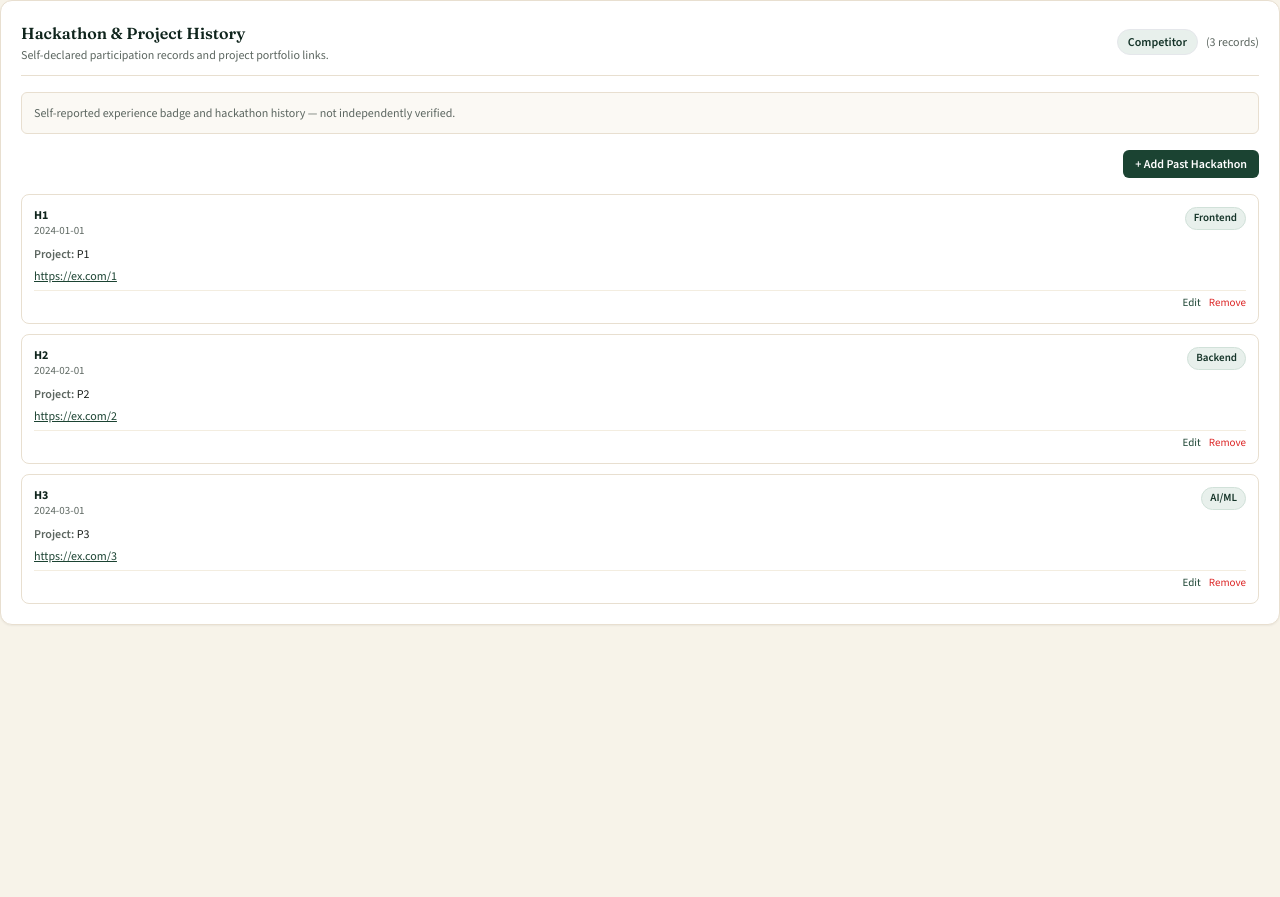
Test: HackathonHistorySection (US-007 / #280) › Experience Badge Recalculation & Lifecycle (US-007 AC 2 & AC 4) › transitions badge from Competitor (3 records) -> Veteran (4 records) -> Competitor (after deleting)
The width and height of the screenshot is (1280, 897).
Check: the text with test id "experience-badge-pill" reads "Competitor", box [1128, 34, 1187, 50]
Check: the text with test id "experience-record-count" reads "(3 records)", box [1206, 34, 1259, 50]
Add 4th record
Click the button "+ Add Past Hackathon" at (1191, 164), box [1123, 150, 1259, 178]
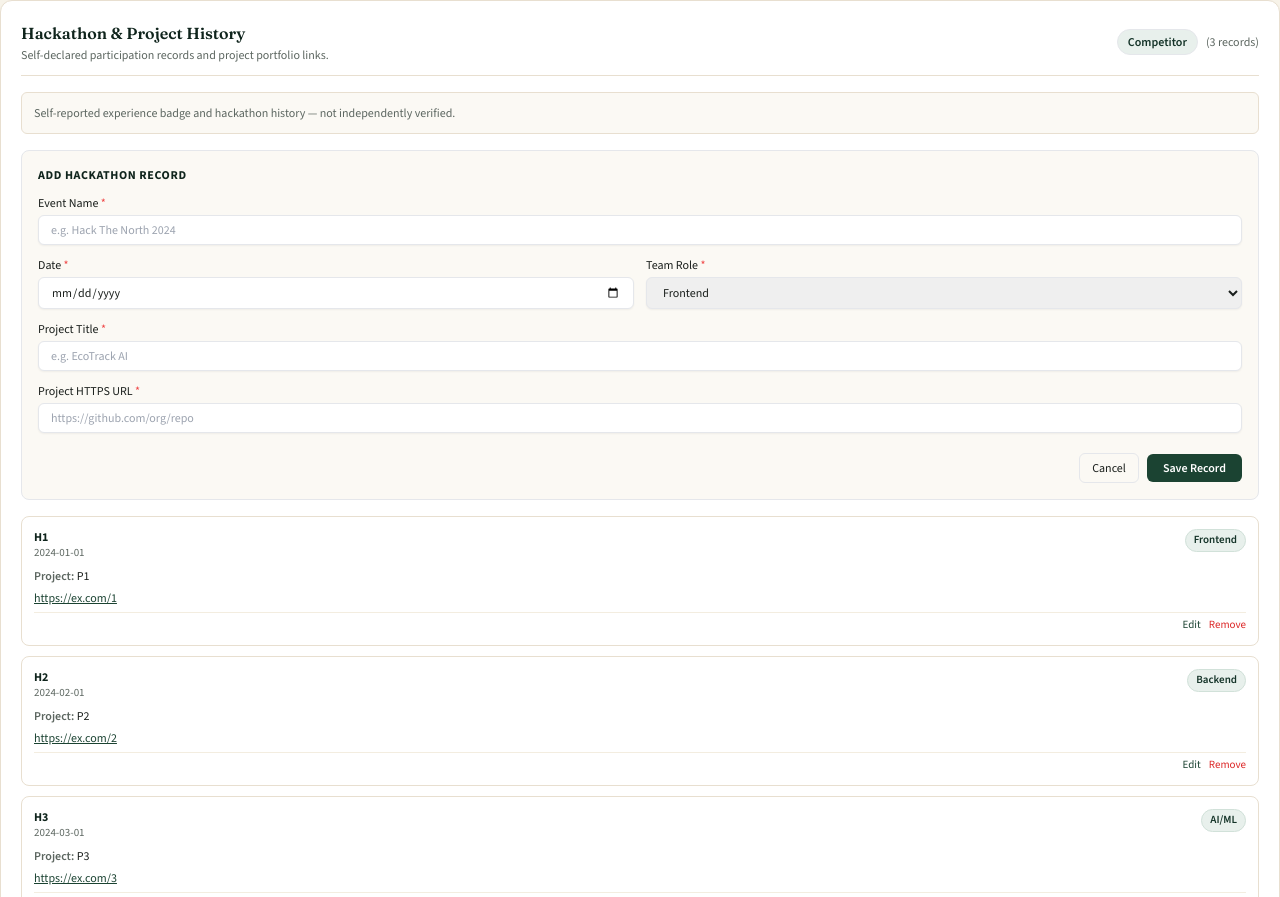
Type "H4" into the field labelled "Event Name *" at (640, 230), box [38, 215, 1242, 245]
Type "2024-04-01" into the date field labelled "Date *" at (336, 293), box [38, 277, 634, 309]
Select "Pitch" in the dropdown labelled "Team Role *" at (944, 293), box [646, 277, 1242, 309]
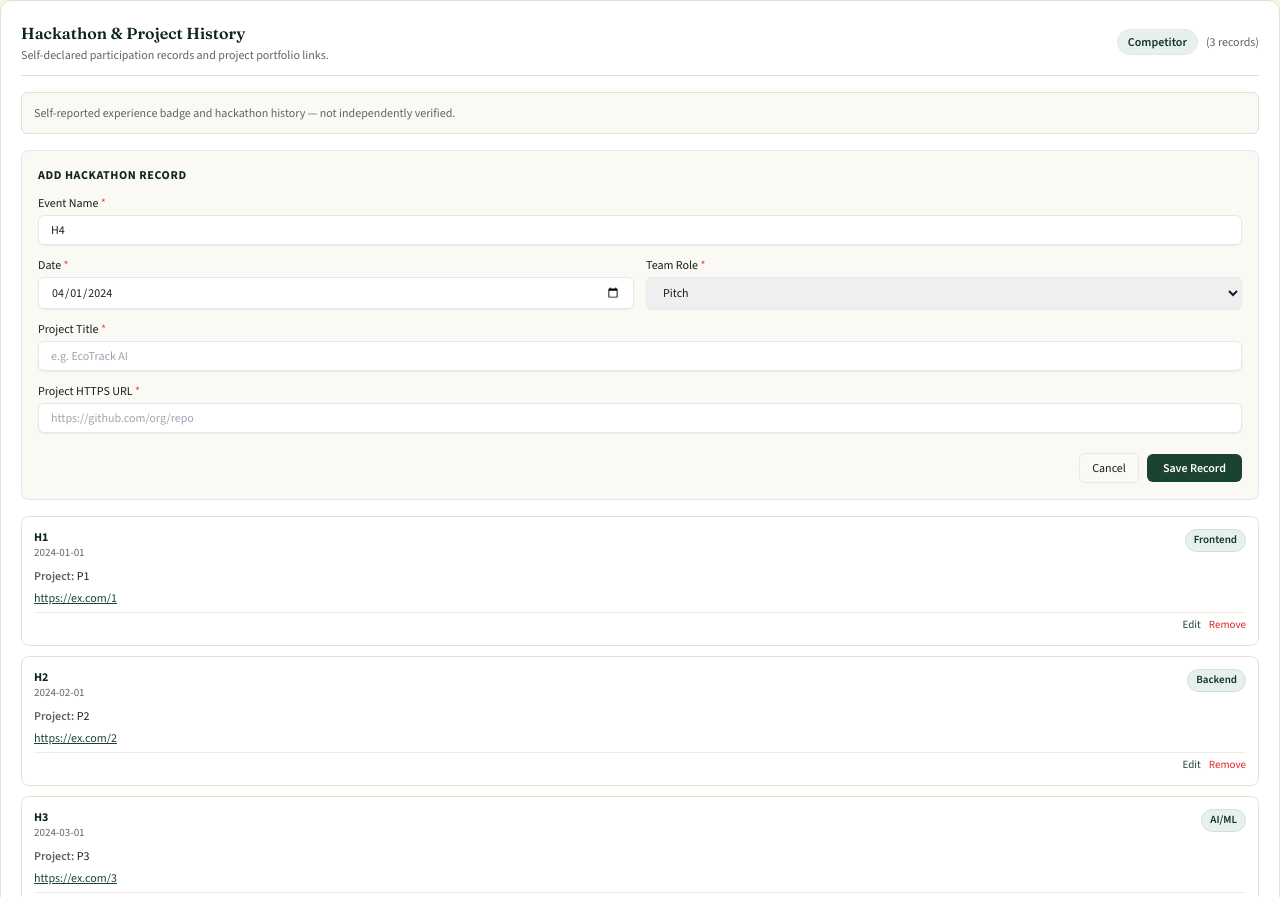
Type "P4" into the field labelled "Project Title *" at (640, 356), box [38, 341, 1242, 371]
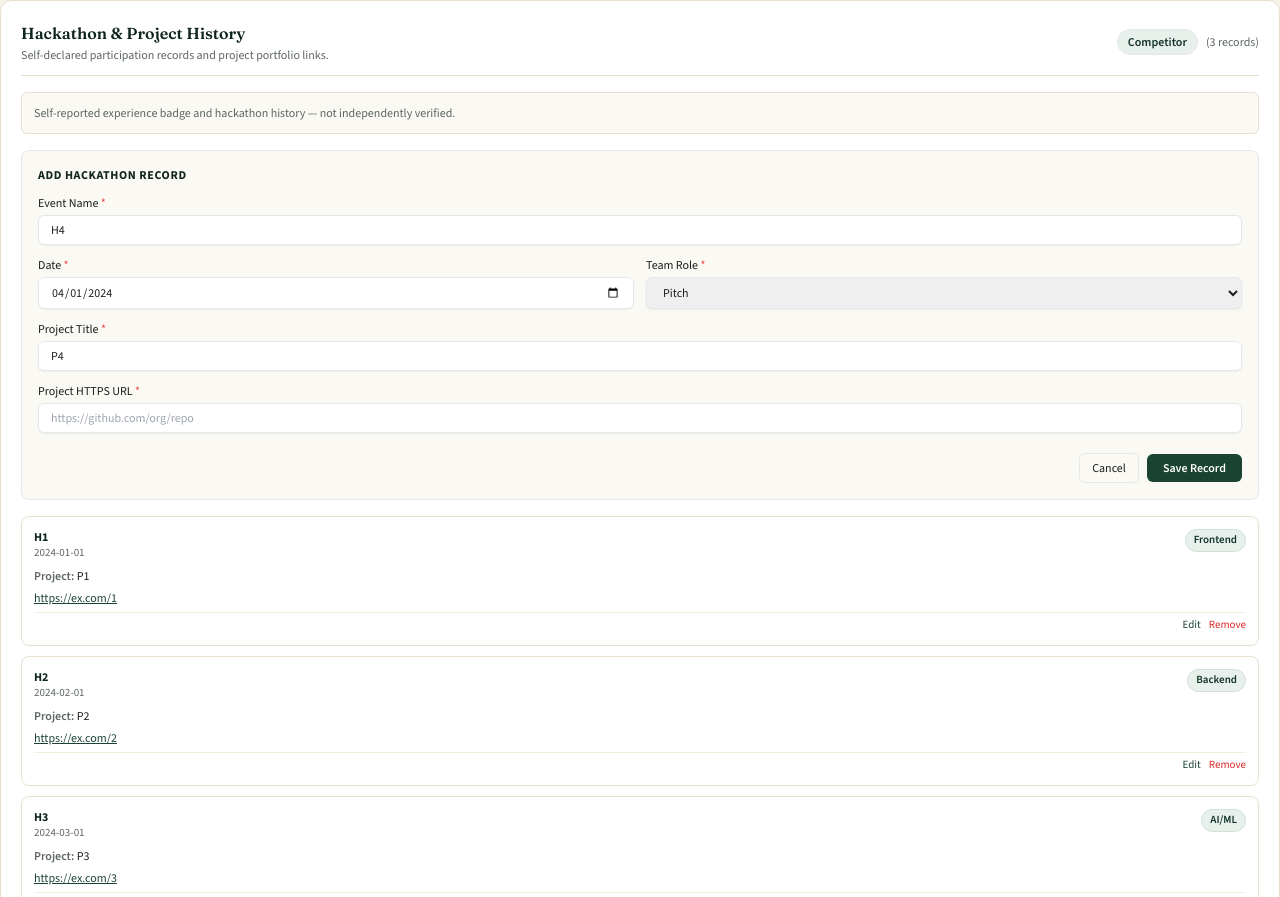
Type "https://ex.com/4" into the field labelled "Project HTTPS URL *" at (640, 418), box [38, 403, 1242, 433]
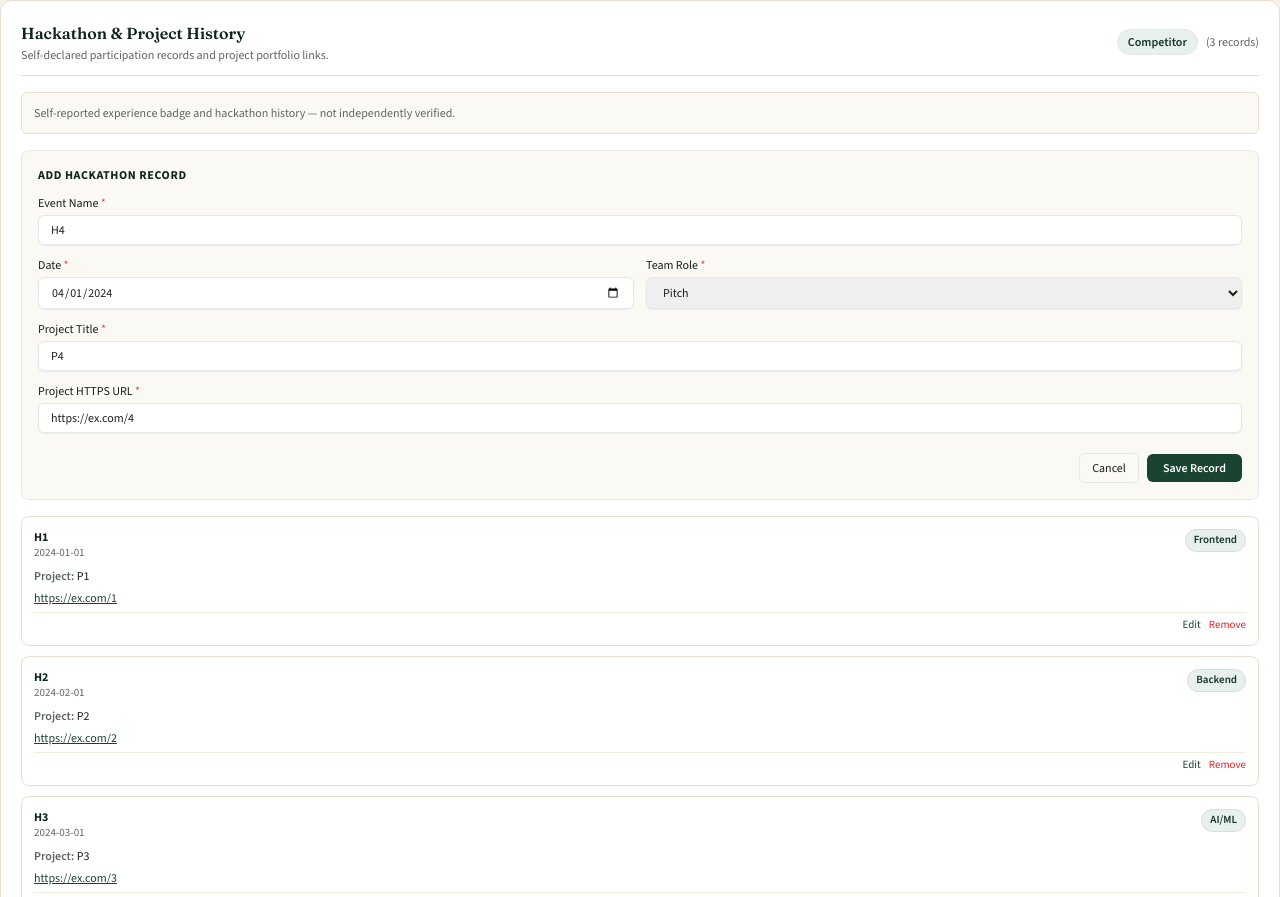
Click the button "Save Record" at (1194, 468), box [1147, 454, 1242, 482]
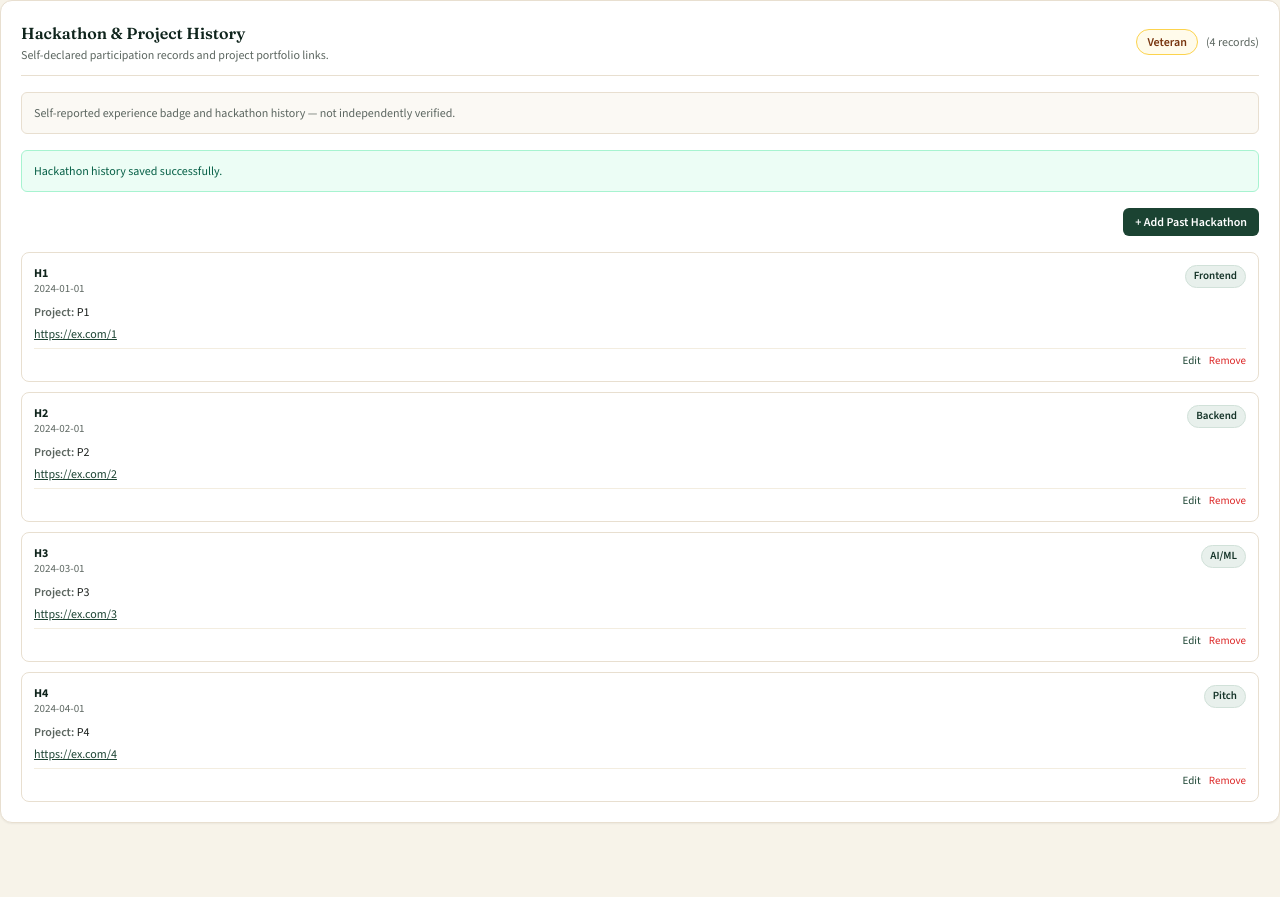
Check: the heading "H4" is shown, box [34, 685, 48, 701]
Check: the text with test id "experience-badge-pill" reads "Veteran", box [1147, 34, 1187, 50]
Check: the text with test id "experience-record-count" reads "(4 records)", box [1206, 34, 1259, 50]
Now Delete 4th record
Click the button "Remove" below "Pitch" at (1227, 781), box [1209, 772, 1246, 789]
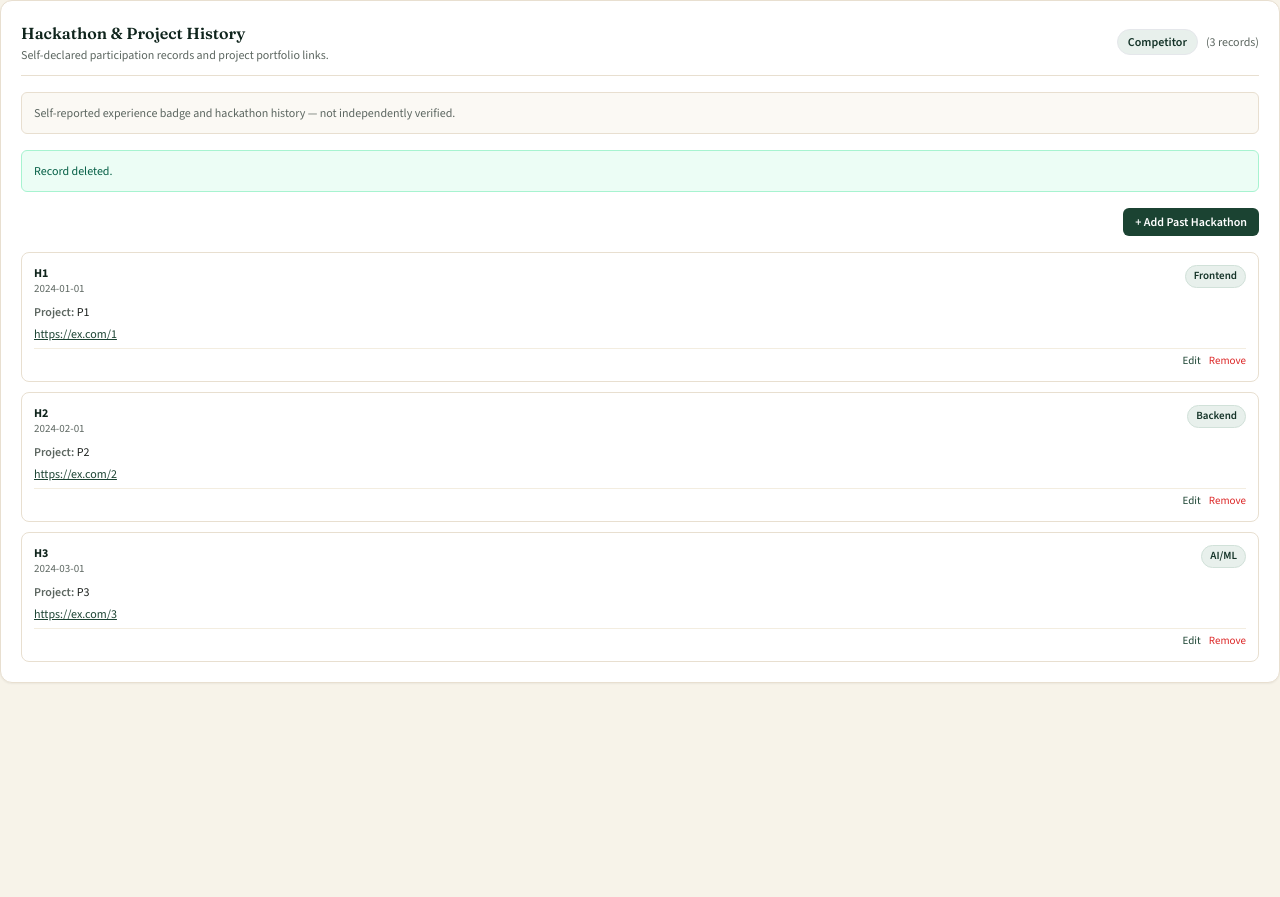
Check: the text with test id "experience-badge-pill" reads "Competitor", box [1128, 34, 1187, 50]
Check: the text with test id "experience-record-count" reads "(3 records)", box [1206, 34, 1259, 50]
